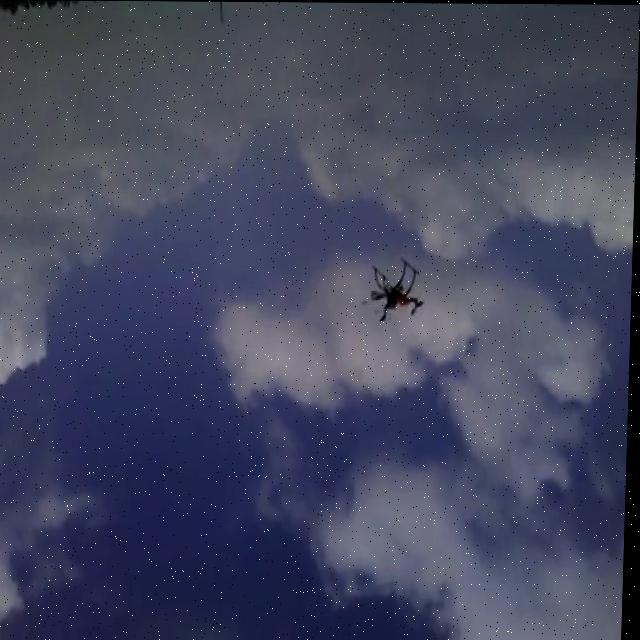drone: (366, 259, 429, 330)
